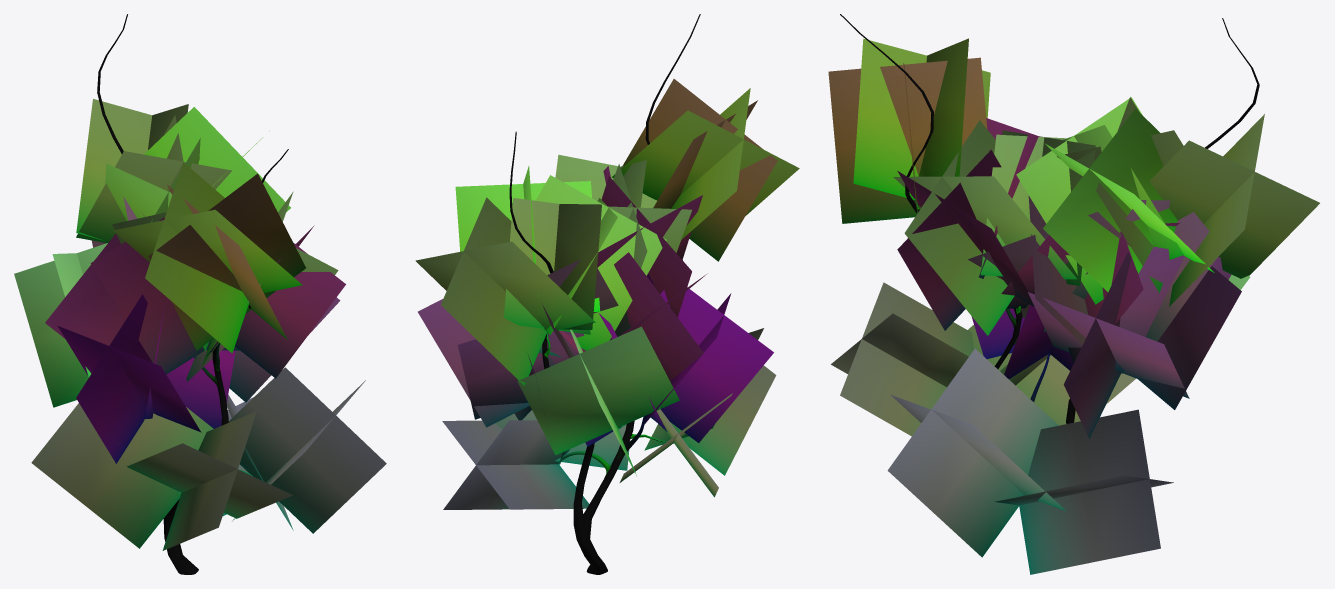
The model's file is URP_P12_Tree_15_LOD_0.fbx.
The picture shows the model from 3 angles, left to right: view 1: azimuth 30°, elevation 25°; view 2: azimuth 150°, elevation 25°; view 3: azimuth 270°, elevation 25°; orthographic projection. The views are drawn at different scales.
Parts seen in each view (by area): view 1: Tree_15_LOD_0; view 2: Tree_15_LOD_0; view 3: Tree_15_LOD_0.
Boxes of the visible parts, x1=… form: Tree_15_LOD_0: x1=14, y1=14, x2=386, y2=574; Tree_15_LOD_0: x1=415, y1=14, x2=799, y2=574; Tree_15_LOD_0: x1=828, y1=14, x2=1319, y2=574.
Size of the model in its own units: 166 by 266 by 217.
